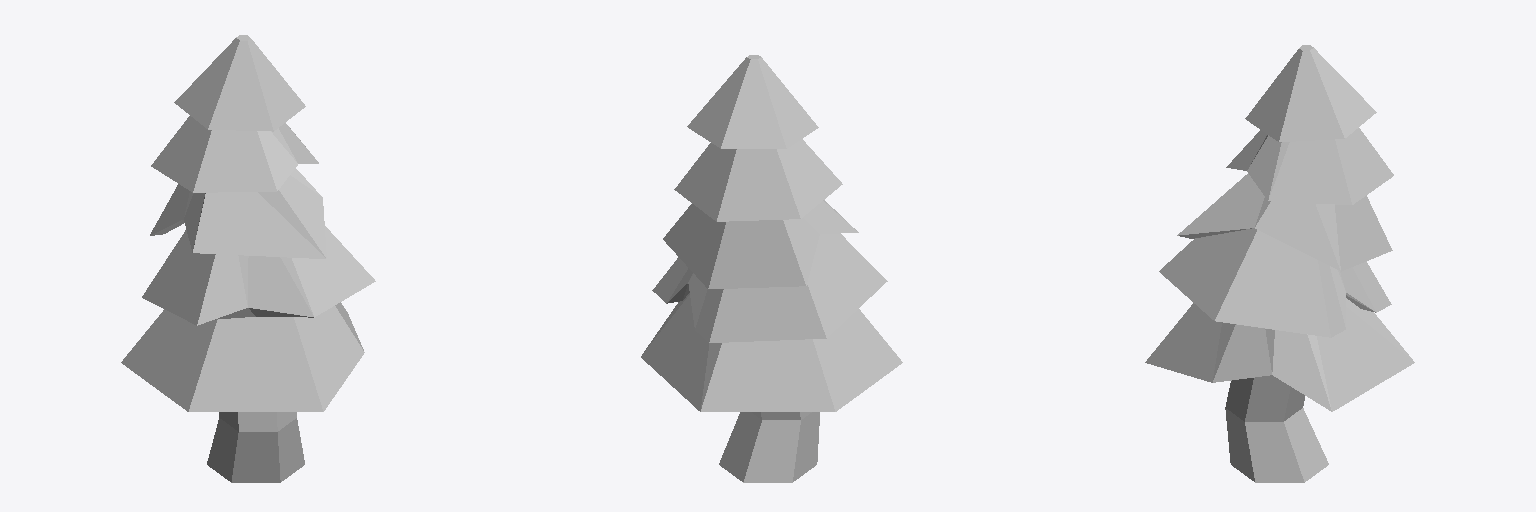
Rendered from uploads_files_3070616_low+polly+trees+1.obj.
3 renders of one model, left to right at view 1: azimuth 30°, elevation 25°; view 2: azimuth 150°, elevation 25°; view 3: azimuth 270°, elevation 25°, orthographic.
Parts seen in each view (by area): view 1: Cylinder; view 2: Cylinder; view 3: Cylinder.
Boxes of the visible parts, box(x1,y1,x2,y2) form: Cylinder: box(121, 35, 375, 482); Cylinder: box(641, 55, 902, 482); Cylinder: box(1145, 45, 1414, 482).
Bounding box in the file's own units: 1.03 × 2.02 × 1.19.